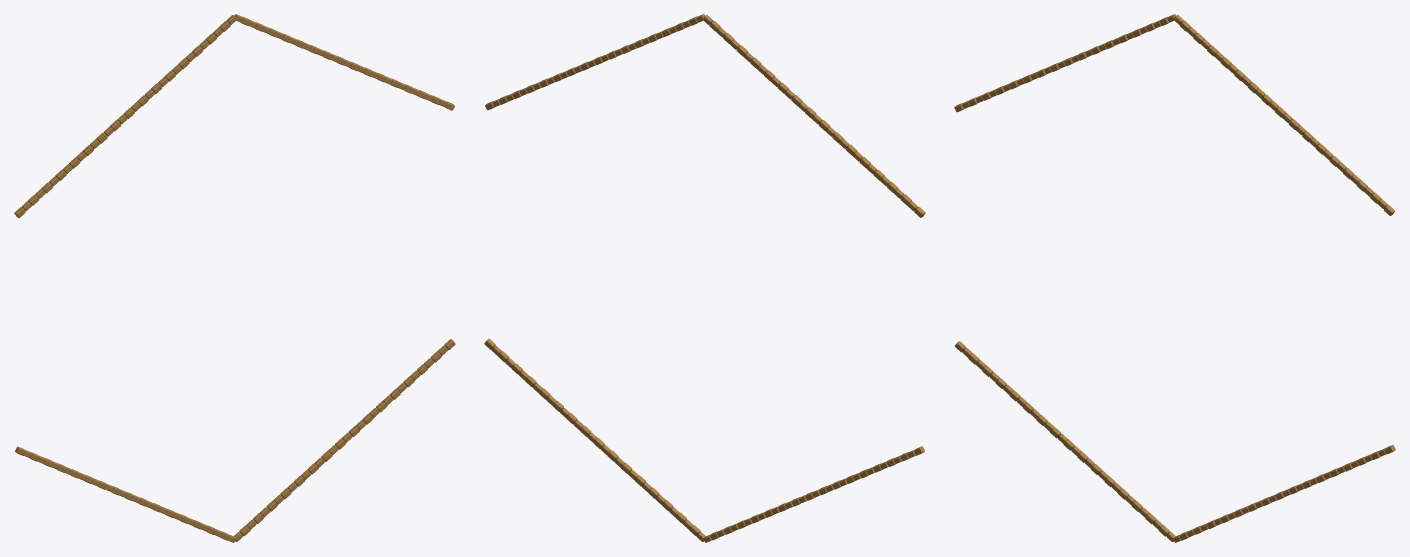
Rendered from ArenaBorders.fbx.
3 renders of one model, left to right at view 1: azimuth 30°, elevation 25°; view 2: azimuth 150°, elevation 25°; view 3: azimuth 330°, elevation 25°, orthographic.
Parts seen in each view (by area): view 1: Cube.001; view 2: Cube.001; view 3: Cube.001.
Boxes of the visible parts, <box> form: Cube.001: <box>14,14,455,542</box>; Cube.001: <box>484,14,925,542</box>; Cube.001: <box>954,14,1395,542</box>.
Size of the model in its own units: 64.32 by 73.7 by 0.7716.
